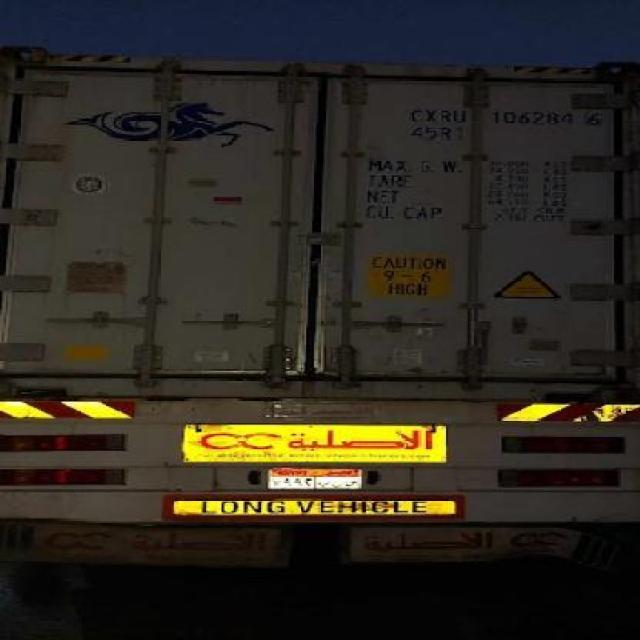ISO: (416, 128, 462, 140)
container_number: (411, 106, 604, 130)
